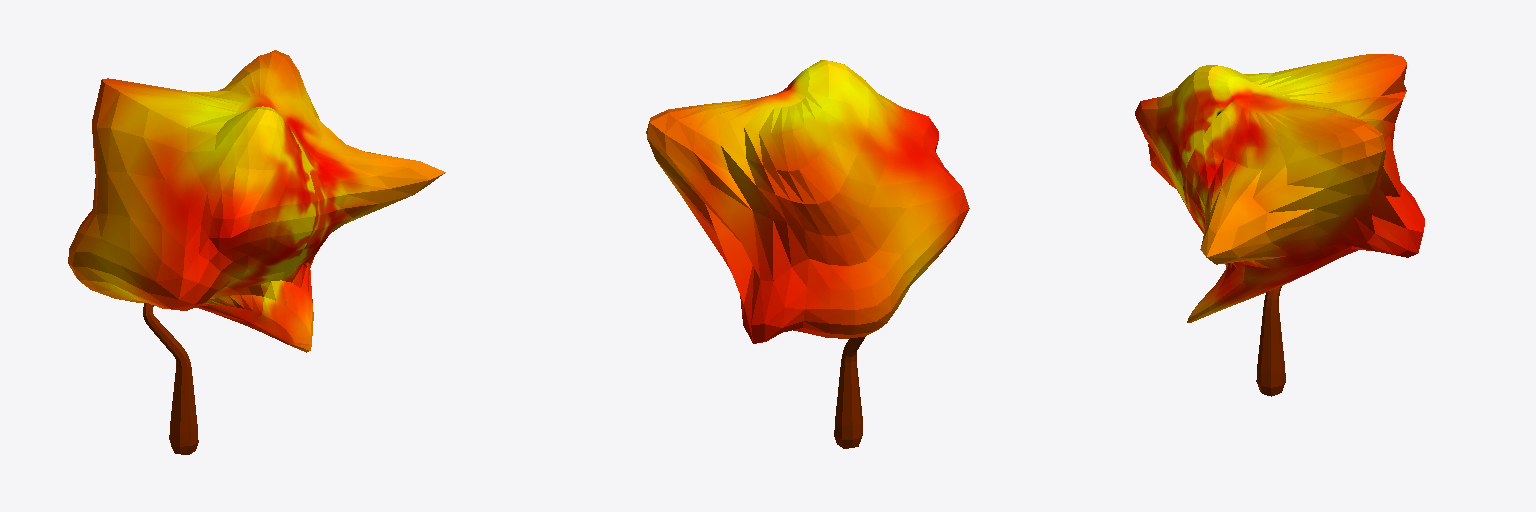
3 views of the same model, side by side, from view 1: azimuth 30°, elevation 25°; view 2: azimuth 150°, elevation 25°; view 3: azimuth 270°, elevation 25° (orthographic).
Visible parts, largest first — view 1: Sphere; view 2: Sphere; view 3: Sphere.
Part boxes in pixels (x1,y1,x2,y2): Sphere: (68, 50, 445, 454); Sphere: (646, 60, 969, 448); Sphere: (1135, 54, 1424, 396).
Size of the model in its own units: 6.35 by 7.01 by 5.22.
1 materials, 1 textured.